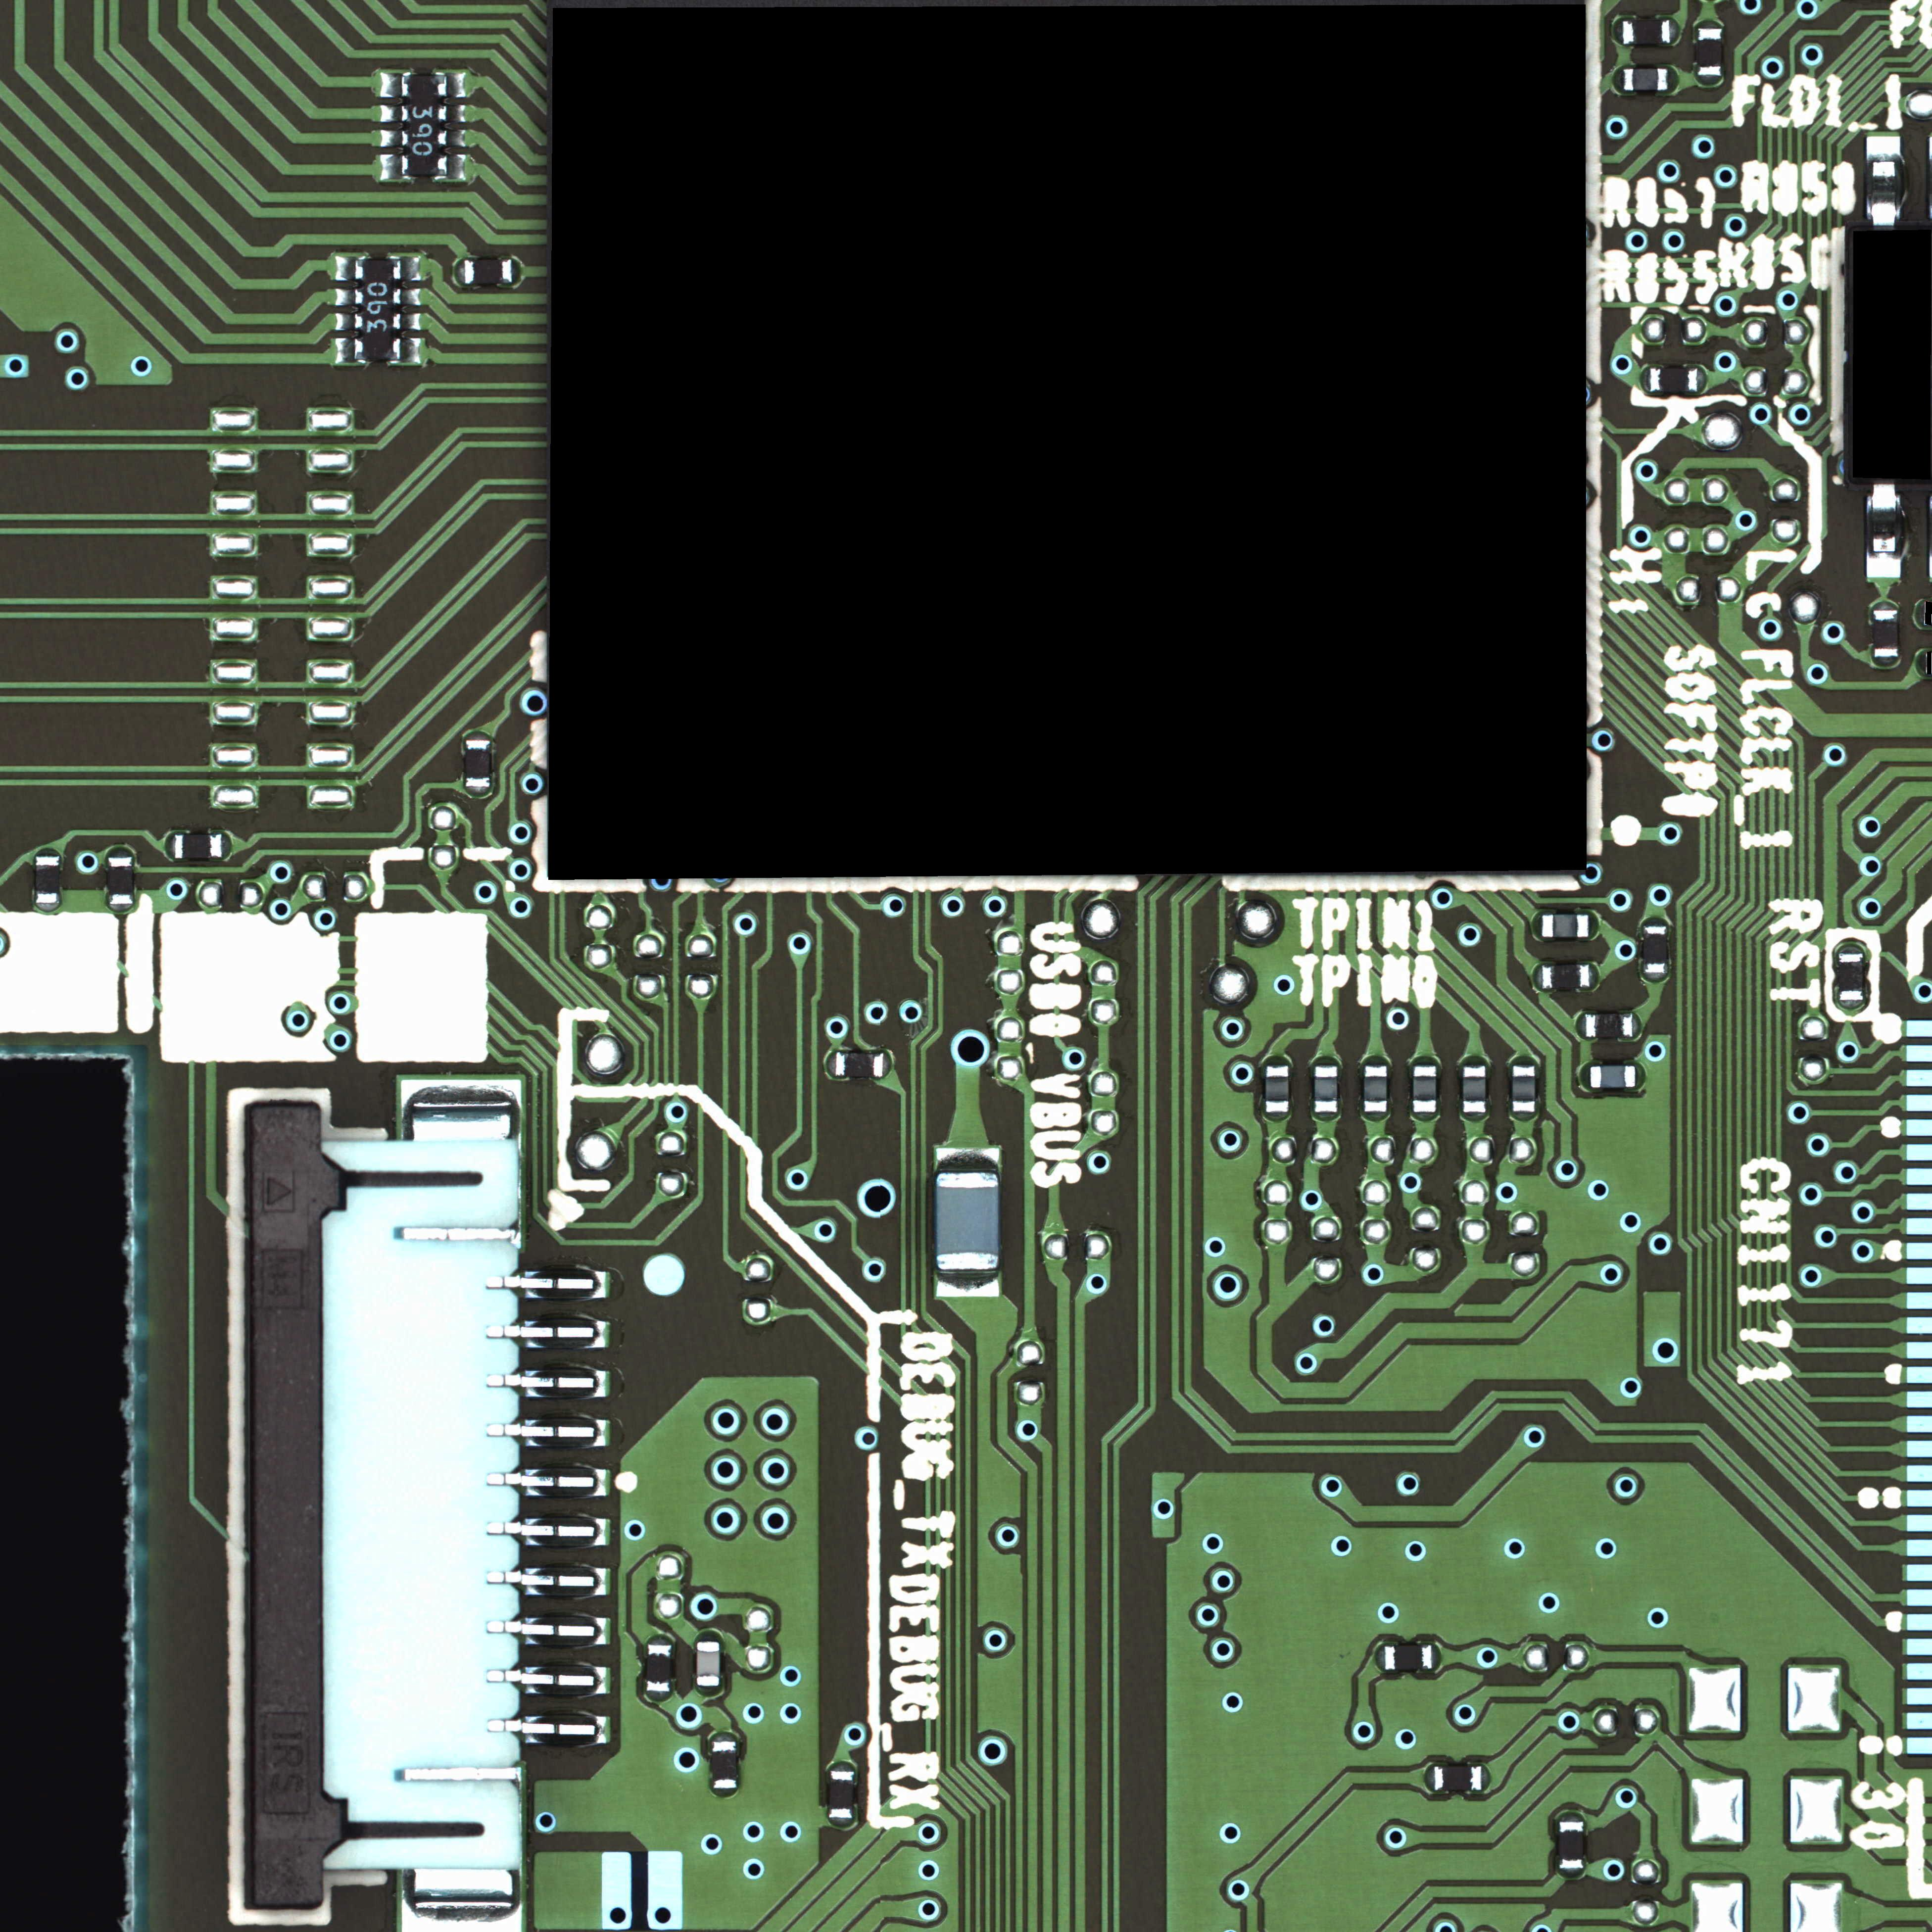Package: (936, 1171, 998, 1270), (402, 73, 448, 175), (356, 260, 400, 361), (1872, 610, 1898, 658), (828, 1771, 855, 1819), (711, 1741, 738, 1789), (465, 740, 492, 787), (646, 1644, 672, 1691), (173, 833, 221, 860), (1384, 1645, 1433, 1670), (835, 1053, 885, 1077), (1697, 28, 1721, 76), (108, 856, 133, 904), (1559, 1821, 1583, 1868), (1543, 964, 1591, 989), (1433, 1766, 1481, 1790), (464, 260, 511, 285), (1622, 19, 1670, 44), (1585, 1014, 1633, 1039), (1412, 1065, 1437, 1113), (1649, 368, 1697, 393), (1644, 925, 1668, 973), (1362, 1065, 1387, 1111), (35, 856, 60, 902), (1838, 954, 1863, 1000), (1265, 1065, 1288, 1113), (1541, 915, 1589, 938), (1315, 1065, 1338, 1113), (1463, 1065, 1486, 1113), (697, 1640, 720, 1686), (1513, 1065, 1536, 1111), (1591, 1065, 1637, 1088), (1622, 67, 1668, 90)
Solder: (1865, 133, 1902, 226), (1865, 483, 1900, 577), (932, 1272, 998, 1299), (936, 1146, 1000, 1171), (377, 154, 402, 180), (333, 338, 356, 364), (400, 257, 423, 281), (380, 71, 402, 97), (402, 338, 423, 364), (333, 257, 354, 281), (448, 73, 467, 99), (448, 154, 465, 180), (379, 104, 402, 124), (379, 129, 402, 147), (333, 288, 354, 306), (333, 313, 354, 331), (1578, 1062, 1591, 1092), (1610, 16, 1622, 46), (695, 1688, 725, 1700), (1530, 908, 1541, 941), (1610, 65, 1622, 94), (448, 129, 467, 147), (448, 104, 467, 122), (402, 313, 421, 331), (402, 288, 421, 306), (1458, 1054, 1490, 1065), (1555, 1810, 1585, 1821), (221, 832, 232, 862), (1361, 1113, 1391, 1123), (1589, 909, 1599, 939), (1261, 1113, 1292, 1123), (1361, 1054, 1391, 1065), (1410, 1054, 1440, 1065), (1509, 1054, 1539, 1065), (1509, 1113, 1539, 1123), (1422, 1764, 1433, 1792), (1670, 18, 1681, 46), (1638, 364, 1649, 393), (1311, 1113, 1339, 1123), (1695, 76, 1723, 87), (1373, 1644, 1384, 1672), (646, 1693, 674, 1704), (1637, 1062, 1647, 1090), (106, 846, 134, 856), (464, 729, 492, 740), (163, 832, 173, 860), (106, 904, 134, 915), (1575, 1012, 1585, 1040), (1263, 1054, 1292, 1065), (1836, 943, 1865, 954), (1668, 65, 1679, 94), (1695, 18, 1723, 28), (1697, 364, 1707, 393), (1433, 1644, 1444, 1672), (1557, 1868, 1585, 1879), (1872, 658, 1900, 669), (1412, 1113, 1438, 1123), (465, 787, 492, 798), (34, 902, 60, 913), (1483, 1764, 1493, 1790), (646, 1633, 672, 1644), (711, 1730, 738, 1741), (826, 1819, 858, 1828), (1914, 602, 1925, 628), (826, 1760, 856, 1769), (883, 1053, 893, 1077), (824, 1053, 835, 1077), (1532, 962, 1541, 991), (1633, 1012, 1642, 1040), (513, 258, 522, 287), (1591, 962, 1599, 991), (34, 847, 62, 856), (1311, 1056, 1339, 1065), (1642, 916, 1670, 925), (1642, 975, 1670, 984), (695, 1631, 724, 1640), (711, 1790, 738, 1799), (455, 258, 464, 285), (1838, 1001, 1865, 1010), (1872, 600, 1898, 609), (1916, 651, 1925, 678), (1461, 1113, 1486, 1122)
